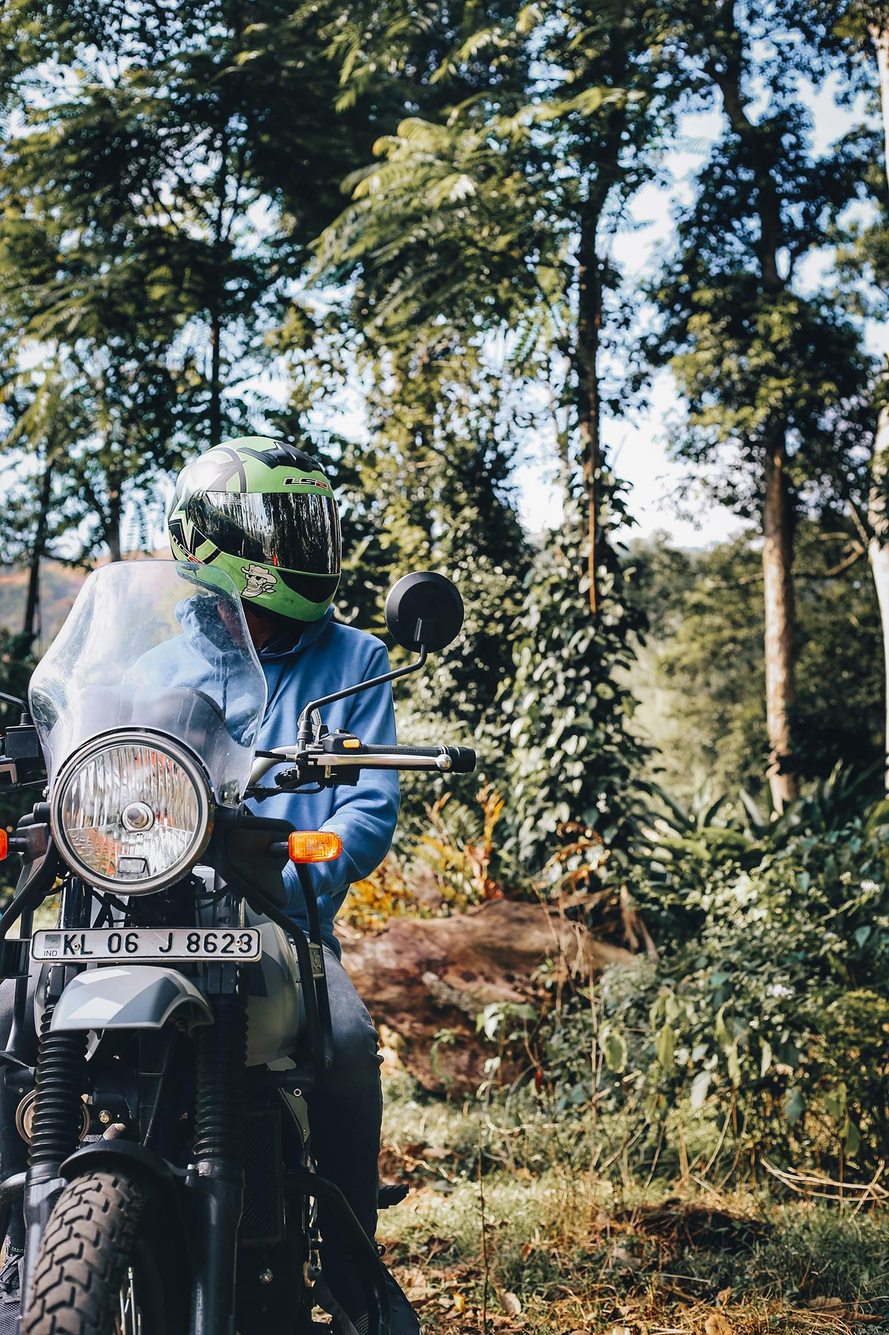helmet: (166, 434, 343, 628)
